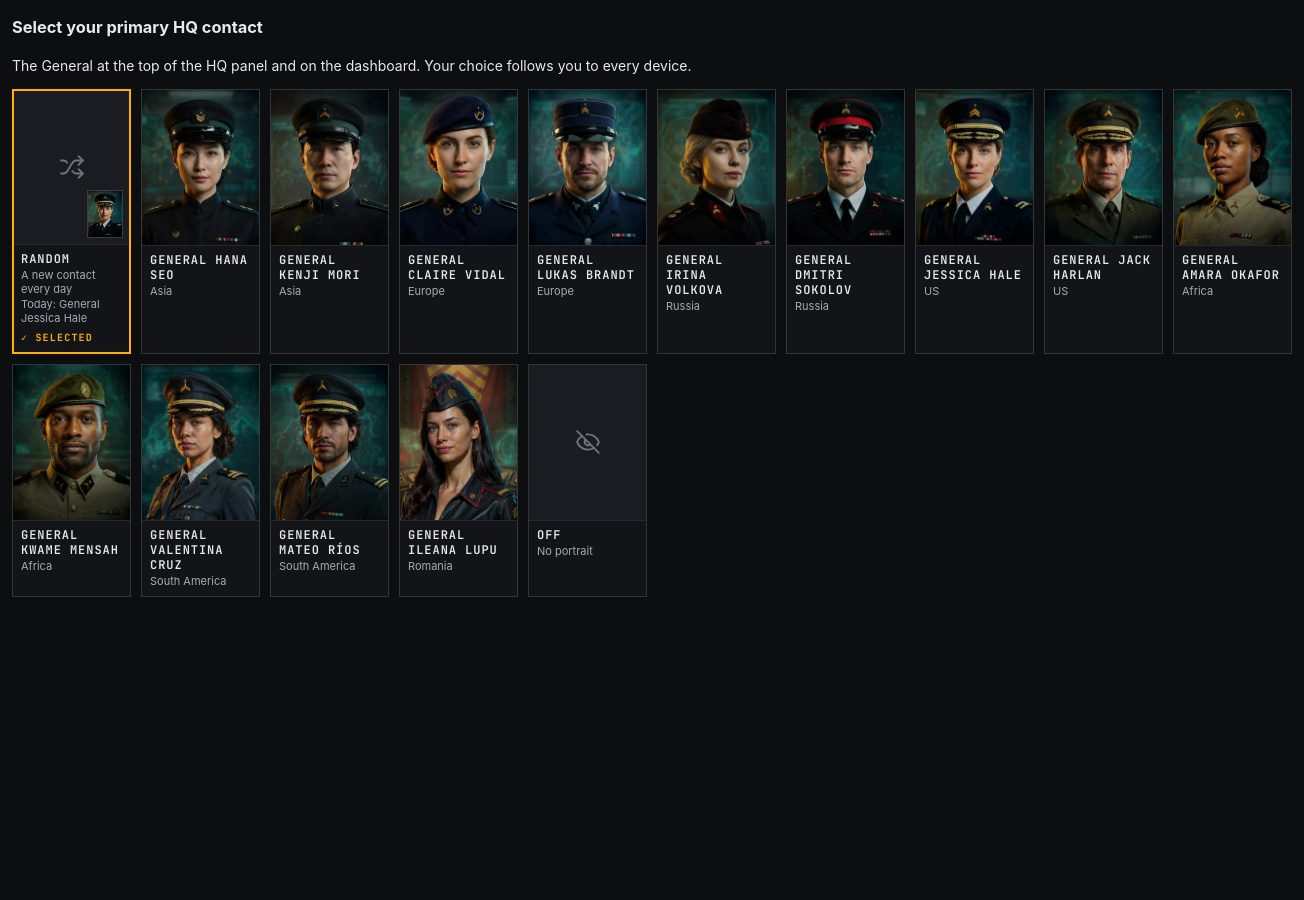
Scenario: a save whose config re-read fails keeps the pick on screen, says so, and retries (Hermes on #1535)
The width and height of the screenshot is (1304, 900).
Click the radio button labelled "General Ileana Lupu Romania". click: (458, 480)
box: left=399, top=364, right=518, bottom=597
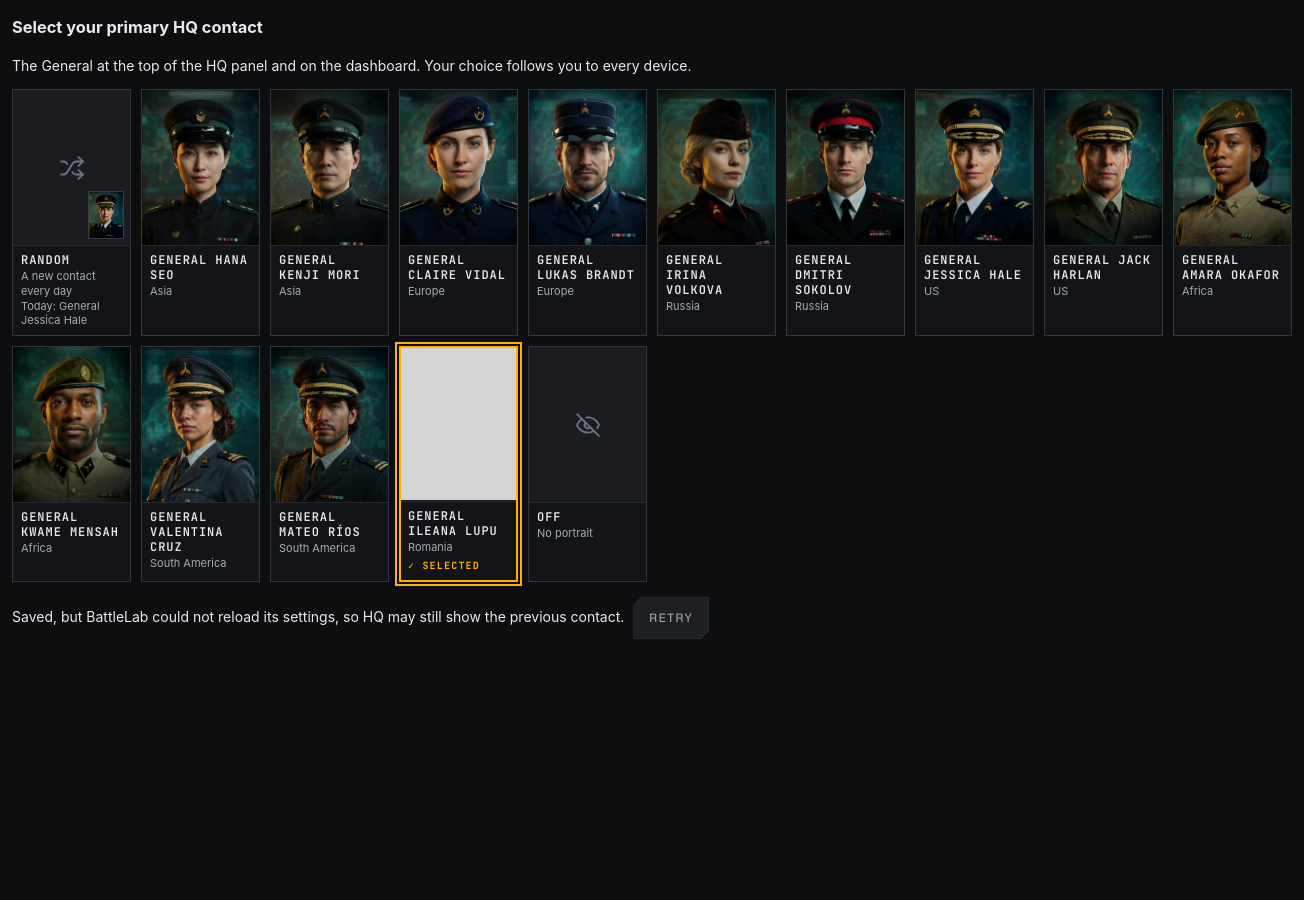
Result: the message with test id "hq-contact-refresh-error" shows "Saved" at left=12, top=608, right=624, bottom=625
Click the button with test id "hq-contact-refresh-retry". click: (671, 618)
box: left=632, top=596, right=710, bottom=640
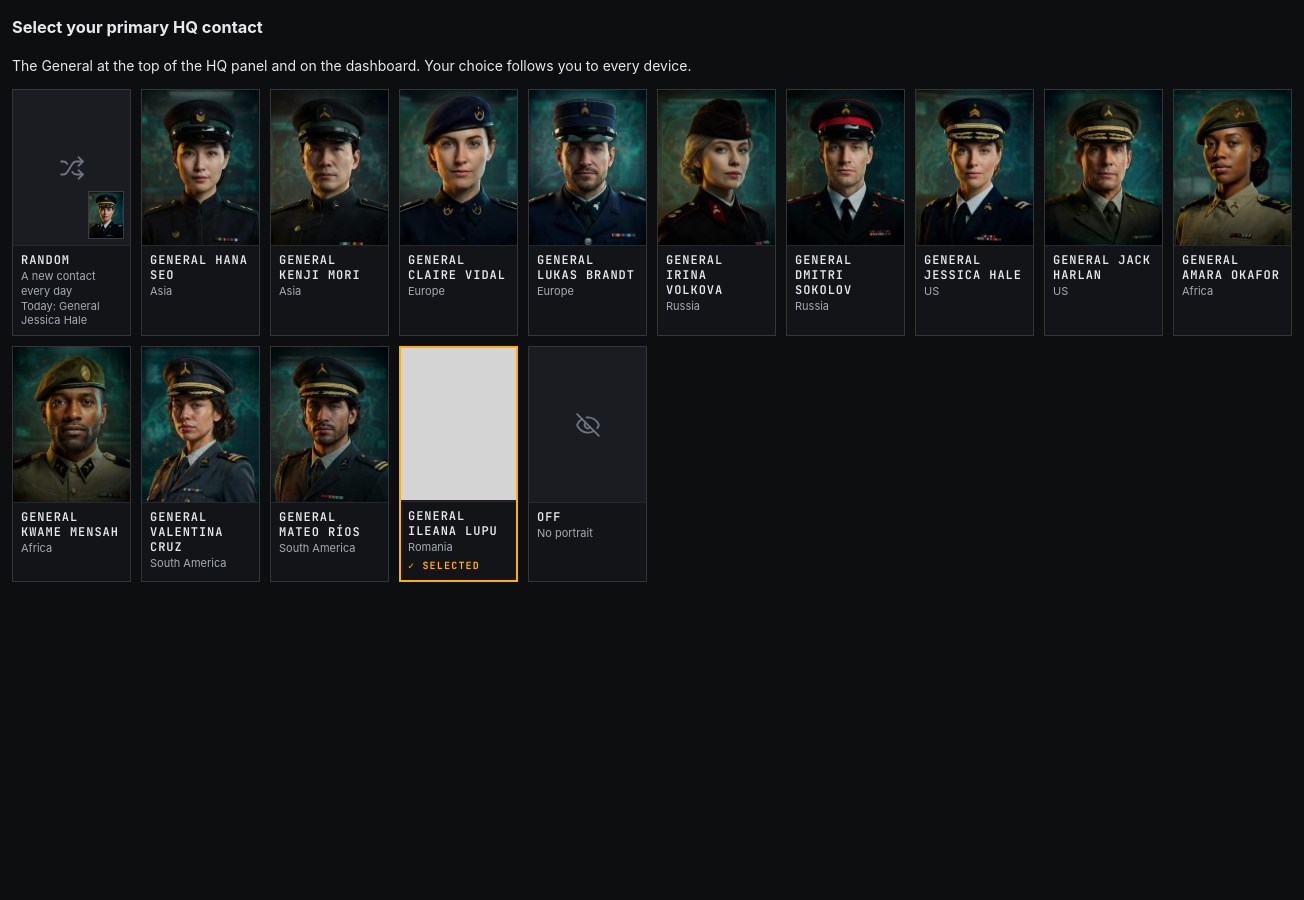
Result: the message with test id "hq-contact-refresh-error" is gone
